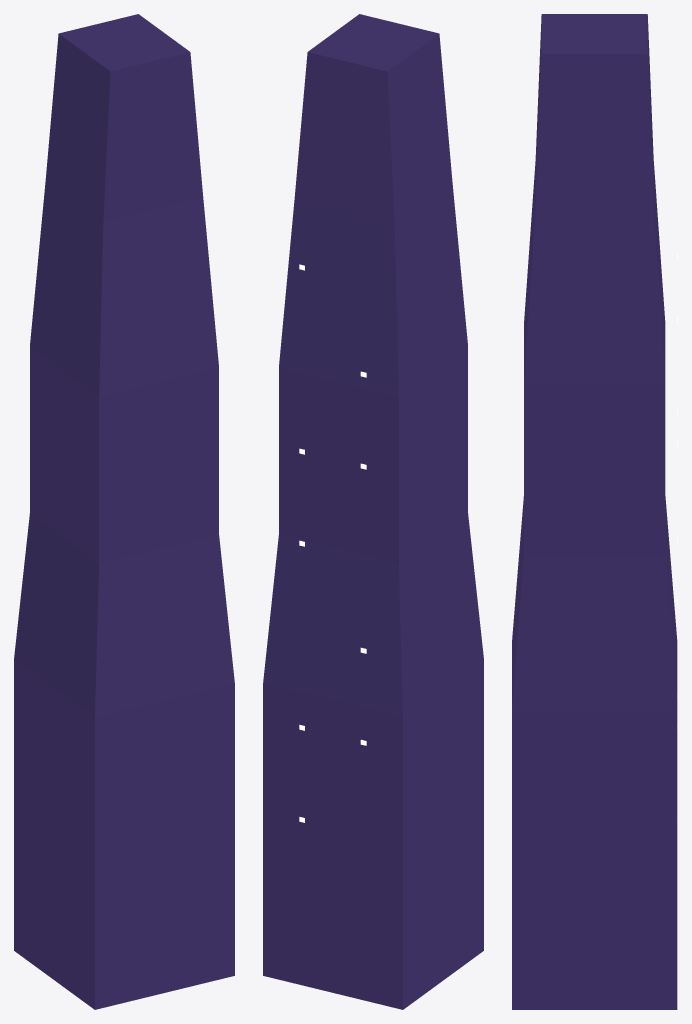
File: 02_vector_tower_88m.glb
The picture shows the model from 3 angles, left to right: view 1: azimuth 30°, elevation 25°; view 2: azimuth 150°, elevation 25°; view 3: azimuth 270°, elevation 25°; orthographic projection. The views are drawn at different scales.
Visible parts, largest first — view 1: body; view 2: body; view 3: body.
Boxes of the visible parts, x1=… form: body: x1=14, y1=14, x2=234, y2=1009; body: x1=263, y1=14, x2=483, y2=1009; body: x1=512, y1=14, x2=677, y2=1009.
Bounding box in the file's own units: 14 × 88 × 14.05.
